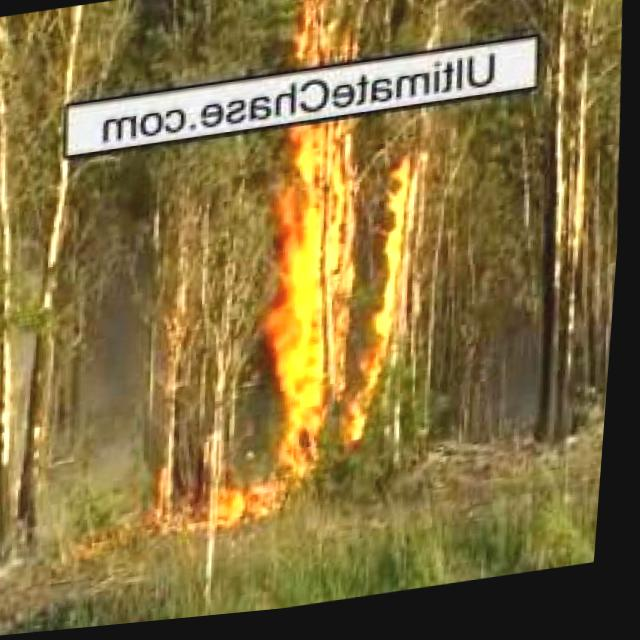helmet: (256, 165, 447, 465), (292, 124, 373, 187), (296, 0, 362, 73), (221, 489, 288, 540)
